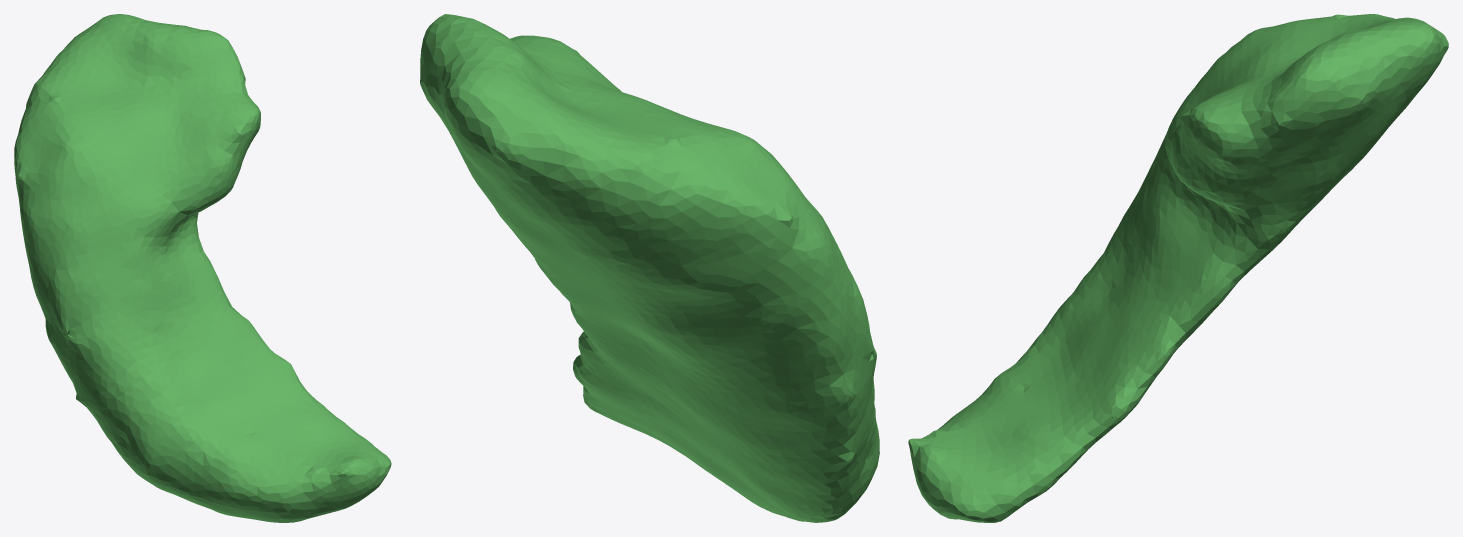
Rendered from Left_Hippocampus.glb.
The picture shows the model from 3 angles, left to right: view 1: azimuth 30°, elevation 25°; view 2: azimuth 150°, elevation 25°; view 3: azimuth 270°, elevation 25°; orthographic projection. The views are drawn at different scales.
Visible parts, largest first — view 1: world; view 2: world; view 3: world.
Part boxes in pixels (bbox=[...]): world: bbox=[14, 14, 391, 522]; world: bbox=[420, 14, 879, 522]; world: bbox=[908, 14, 1448, 522].
Bounding box in the file's own units: 25.38 × 36.06 × 37.07.
